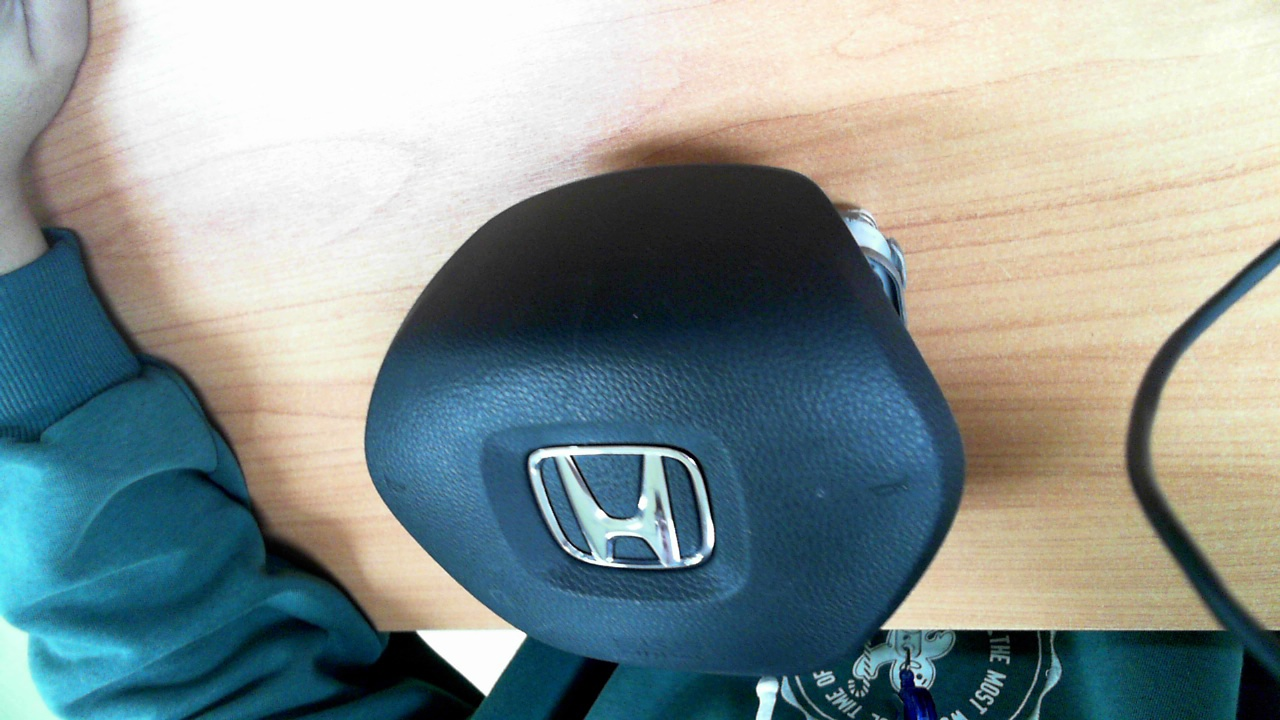Airbag: (362, 162, 966, 676)
Honda: (528, 445, 716, 569)
